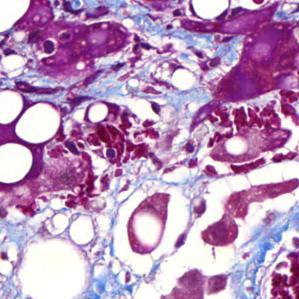steatosis: (15, 103, 64, 144)
